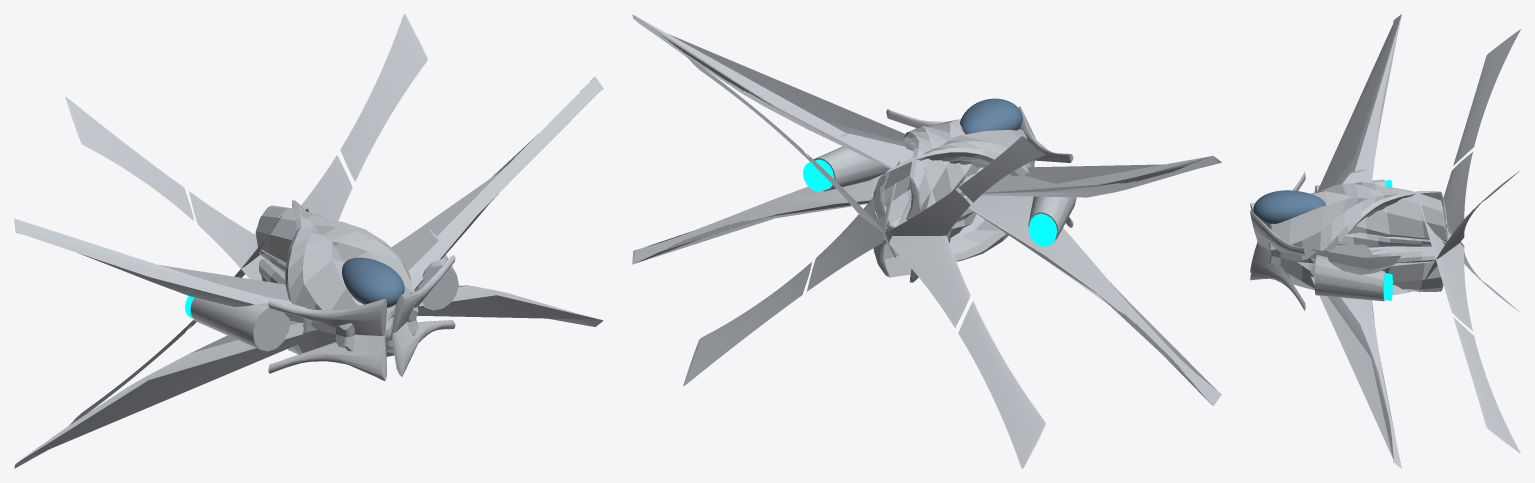
Rendered from Enemy006.glb.
3 views of the same model, side by side, from view 1: azimuth 30°, elevation 25°; view 2: azimuth 150°, elevation 25°; view 3: azimuth 270°, elevation 25° (orthographic). The views are drawn at different scales.
Parts seen in each view (by area): view 1: assembly_gltf_export_temp; view 2: assembly_gltf_export_temp; view 3: assembly_gltf_export_temp.
Boxes of the visible parts, <box> form: assembly_gltf_export_temp: <box>14,14,603,468</box>; assembly_gltf_export_temp: <box>632,14,1221,468</box>; assembly_gltf_export_temp: <box>1250,14,1520,468</box>.
Bounding box in the file's own units: 9.88 × 5.34 × 4.62.
